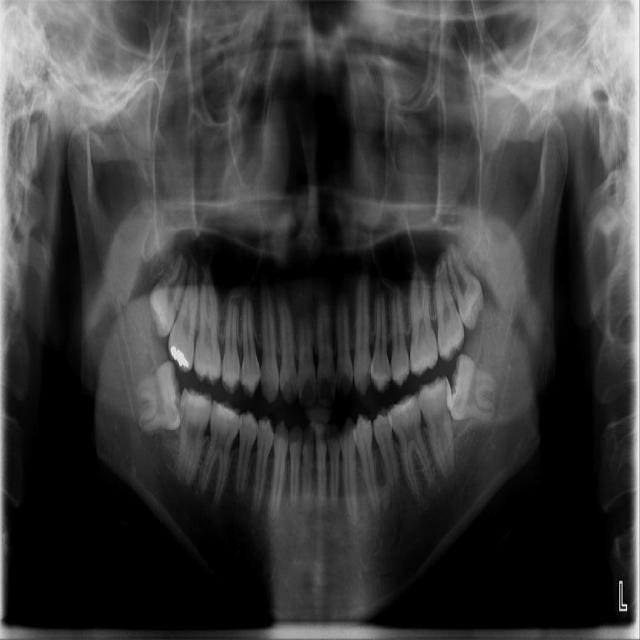Filling: (171, 343, 189, 369)
impacted tooth: (132, 361, 182, 431), (449, 352, 500, 419), (445, 241, 485, 324), (150, 253, 187, 336)
